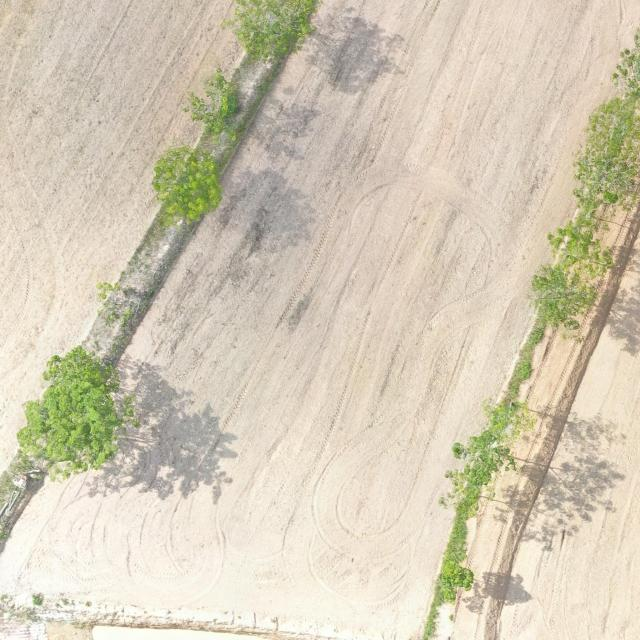Tree: (14, 344, 128, 479), (436, 394, 536, 520), (570, 94, 640, 217), (151, 141, 224, 229), (224, 0, 318, 62), (527, 263, 597, 332), (544, 219, 622, 277), (179, 67, 243, 136), (438, 558, 480, 603)
